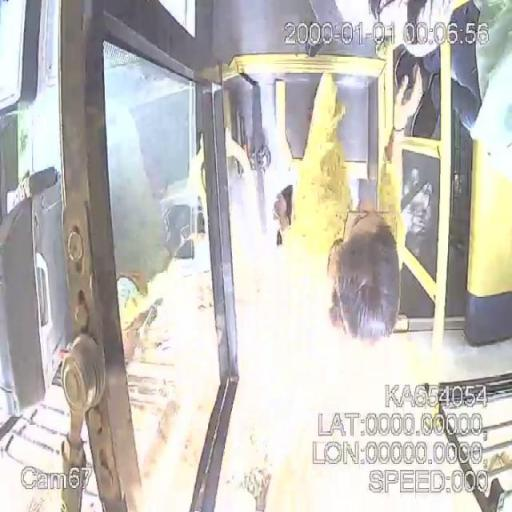persona: (248, 72, 402, 343)
